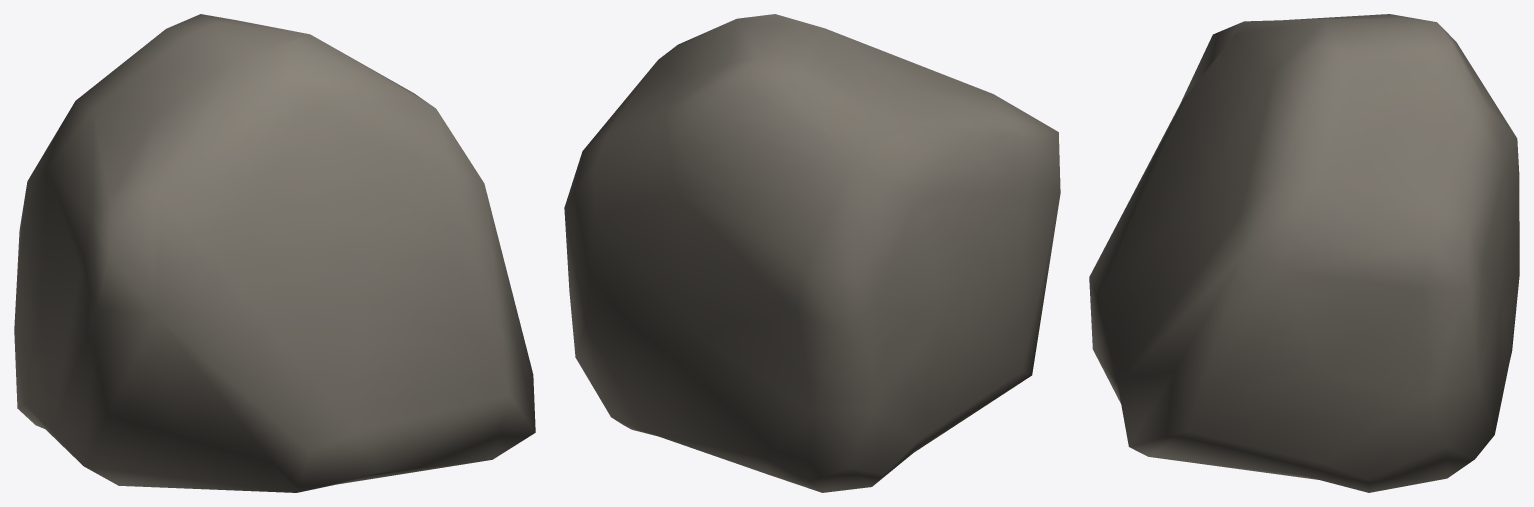
File: rockCarryItemMesh.fbx
The picture shows the model from 3 angles, left to right: view 1: azimuth 30°, elevation 25°; view 2: azimuth 150°, elevation 25°; view 3: azimuth 270°, elevation 25°; orthographic projection. The views are drawn at different scales.
Visible parts, largest first — view 1: rockCarryMesh; view 2: rockCarryMesh; view 3: rockCarryMesh.
Boxes of the visible parts, box(x1,y1,x2,y2) form: rockCarryMesh: box(14, 14, 535, 492); rockCarryMesh: box(564, 14, 1060, 492); rockCarryMesh: box(1089, 14, 1519, 492).
Size of the model in its own units: 55.61 by 52.22 by 51.24.
